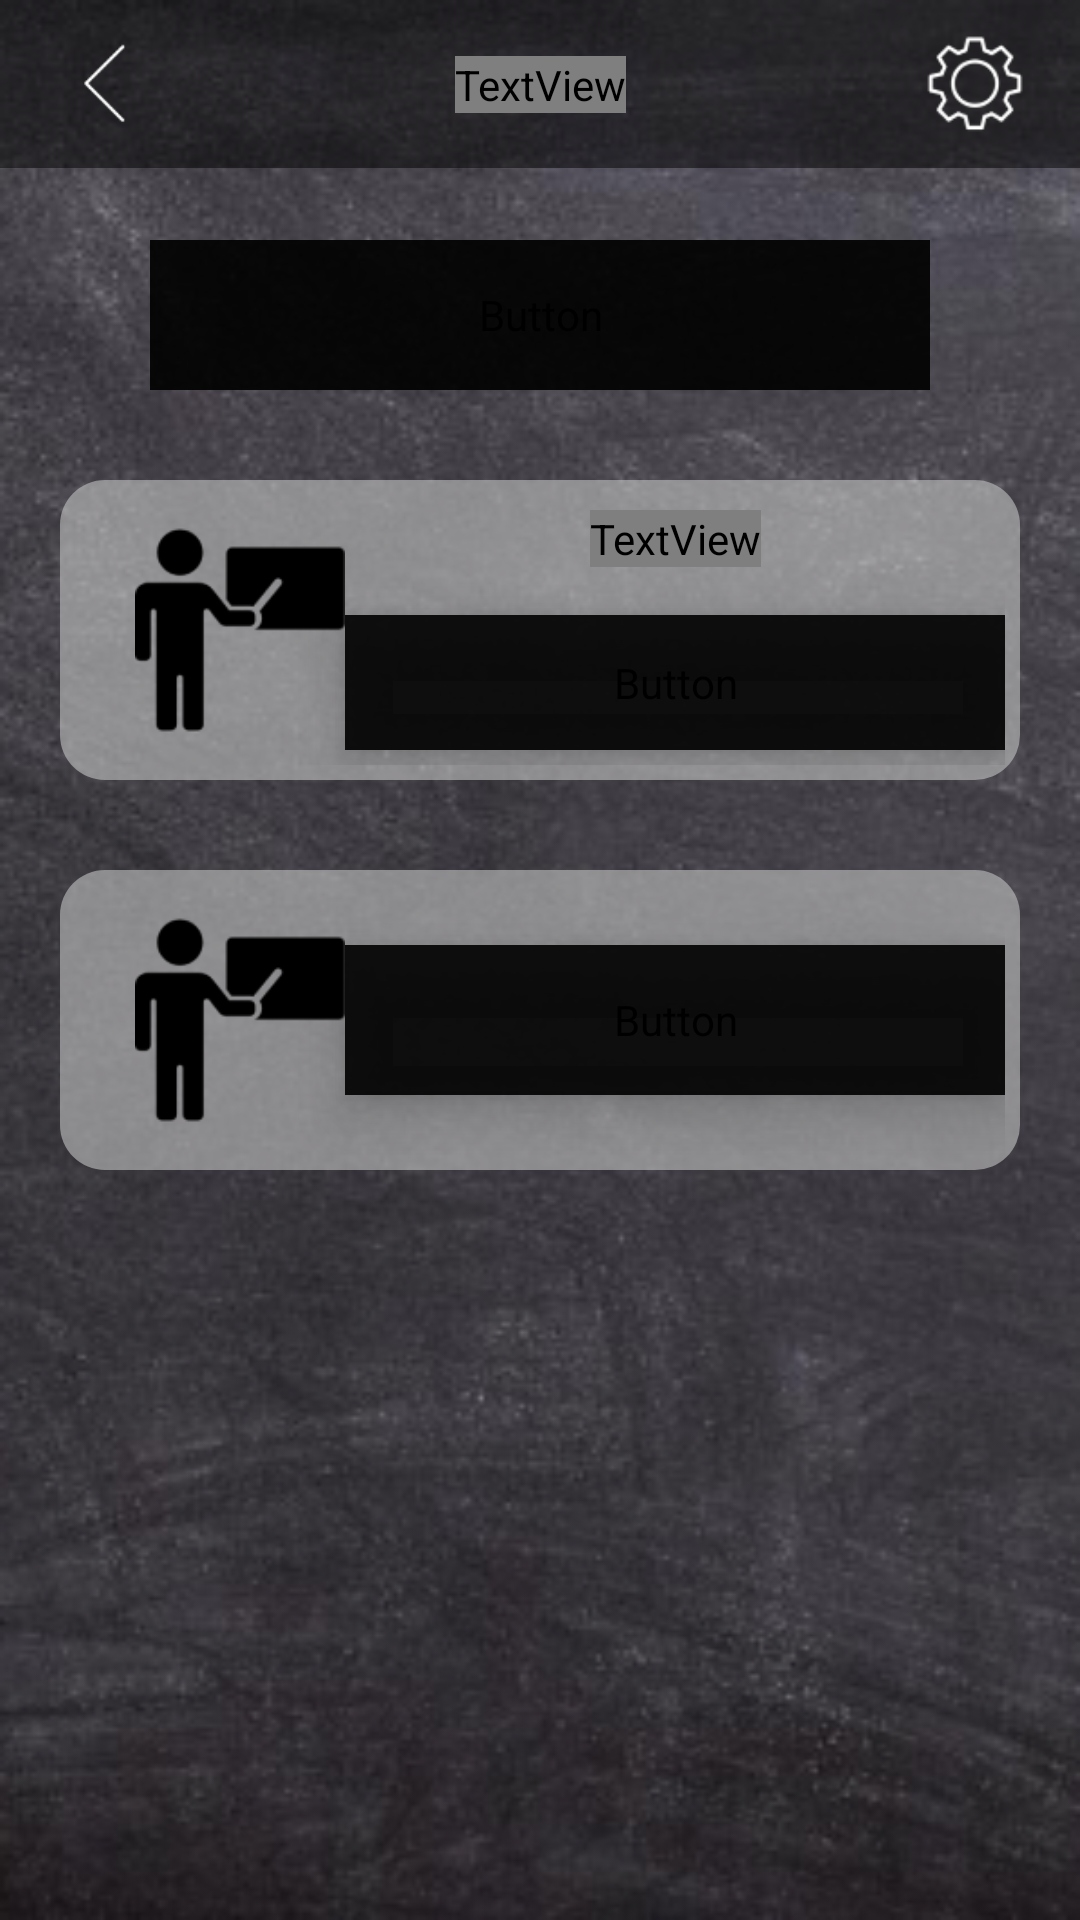

Named icons in this screenshot (1080x1920) and their centers, [x,y]:
config: [975,83]
voltar: [104,83]
